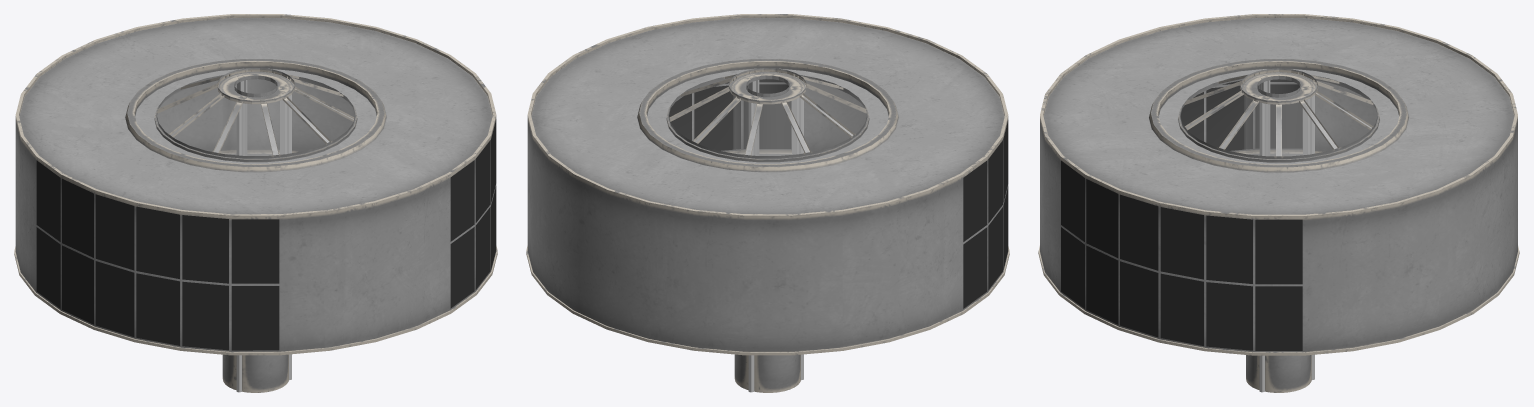
3 renders of one model, left to right at view 1: azimuth 30°, elevation 25°; view 2: azimuth 150°, elevation 25°; view 3: azimuth 270°, elevation 25°, orthographic.
Visible parts, largest first — view 1: MainBody, Tube, Rails; view 2: MainBody, Tube, Rails; view 3: MainBody, Tube, Rails.
Part boxes in pixels (bbox=[...]): MainBody: bbox=[14, 14, 497, 392]; Tube: bbox=[221, 73, 288, 155]; Rails: bbox=[236, 74, 291, 392]; MainBody: bbox=[526, 14, 1009, 392]; Tube: bbox=[733, 73, 800, 155]; Rails: bbox=[748, 74, 803, 392]; MainBody: bbox=[1038, 14, 1519, 392]; Tube: bbox=[1244, 73, 1311, 155]; Rails: bbox=[1259, 75, 1314, 392].
Size of the model in its own units: 805 by 543 by 805.
